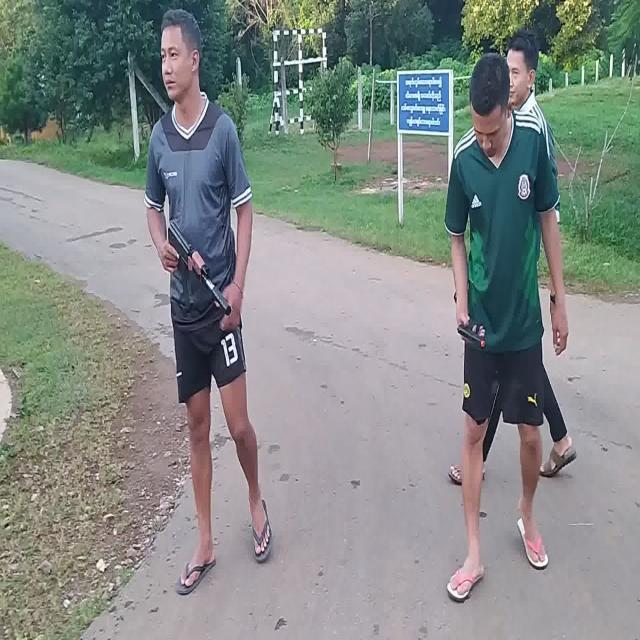gun: (169, 222, 232, 317), (458, 317, 484, 347)
